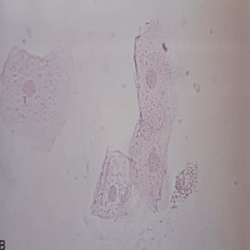Epithelial: (118, 17, 177, 213), (2, 41, 76, 153), (89, 144, 137, 226), (172, 158, 200, 212)
